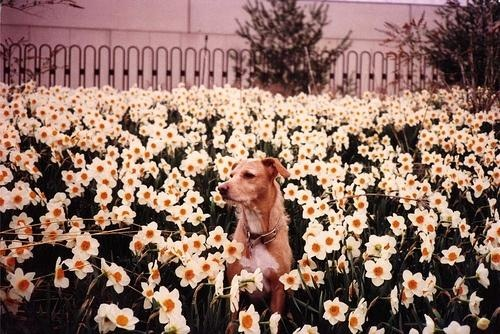dog: (219, 158, 295, 325)
